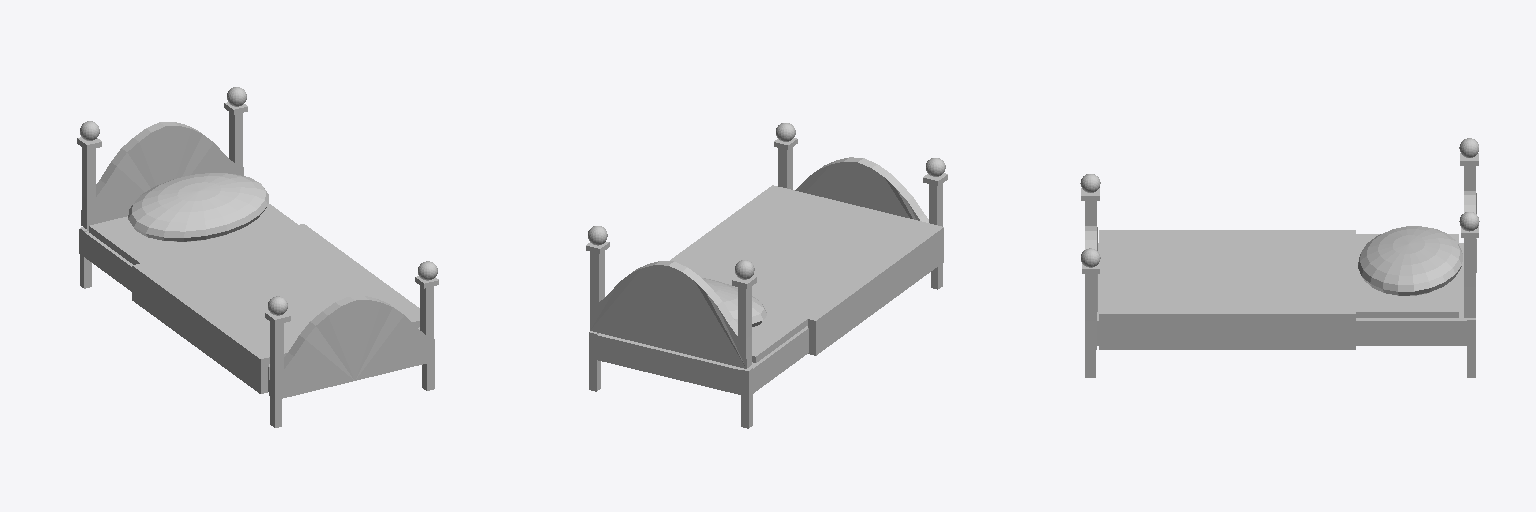
The model's file is Cama.obj.
3 views of the same model, side by side, from view 1: azimuth 30°, elevation 25°; view 2: azimuth 150°, elevation 25°; view 3: azimuth 270°, elevation 25° (orthographic).
Parts seen in each view (by area): view 1: Cama:MeshpolySurface7, Cama:pSphere1; view 2: Cama:MeshpolySurface7, Cama:pSphere1; view 3: Cama:MeshpolySurface7, Cama:pSphere1.
Boxes of the visible parts, box(x1,y1,x2,y2) form: Cama:MeshpolySurface7: box(77, 87, 438, 427); Cama:pSphere1: box(128, 173, 268, 241); Cama:MeshpolySurface7: box(586, 123, 947, 428); Cama:pSphere1: box(702, 278, 766, 326); Cama:MeshpolySurface7: box(1080, 138, 1479, 377); Cama:pSphere1: box(1358, 226, 1462, 295).
Size of the model in its own units: 1.75 by 1.6 by 3.52.